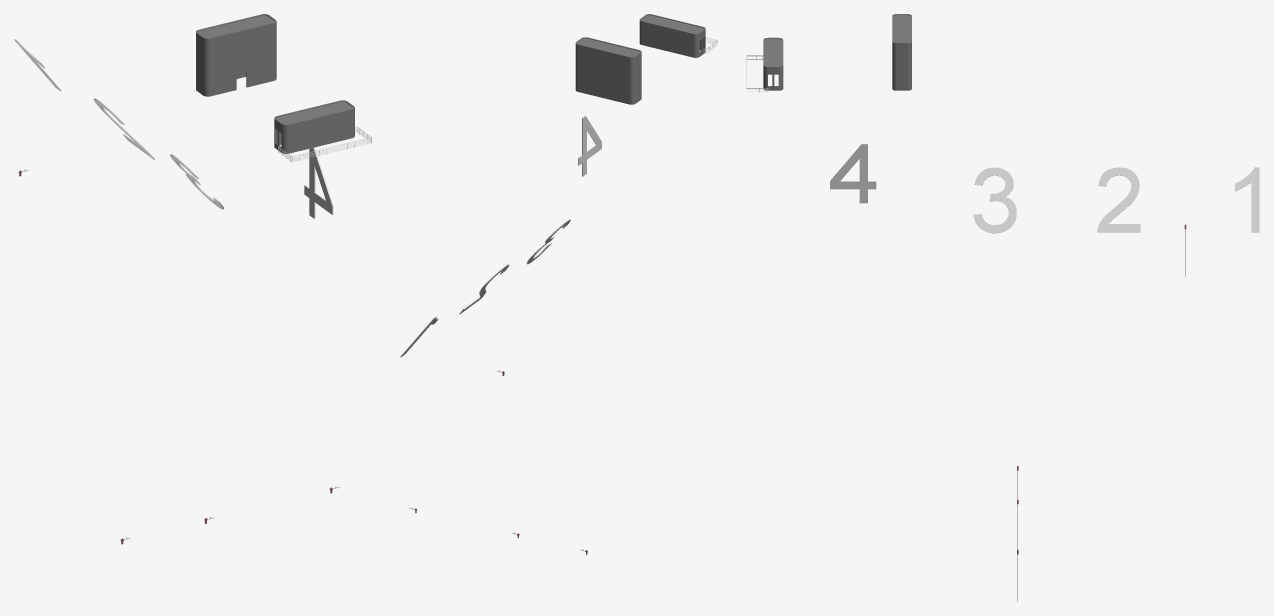
The picture shows the model from 3 angles, left to right: view 1: azimuth 30°, elevation 25°; view 2: azimuth 150°, elevation 25°; view 3: azimuth 270°, elevation 25°; orthographic projection. The views are drawn at different scales.
Size of the model in its own units: 31.6 by 85.12 by 78.13.
